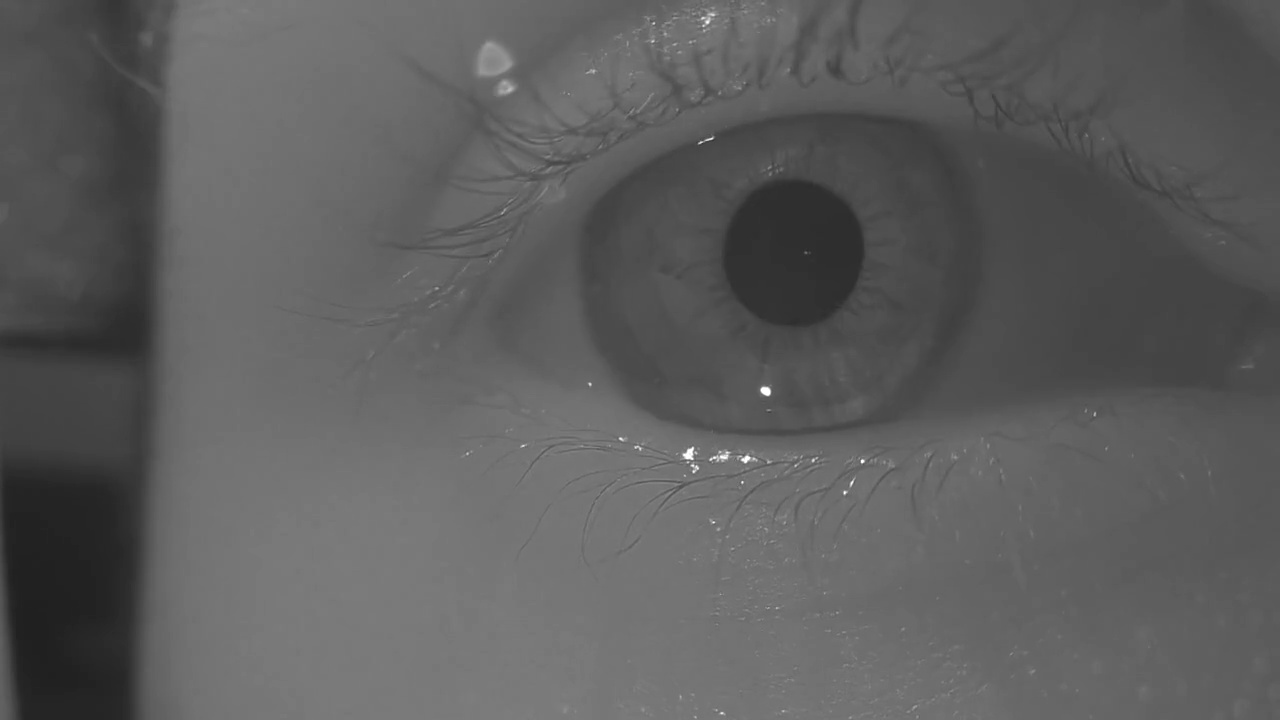pupil: (723, 180, 864, 326)
